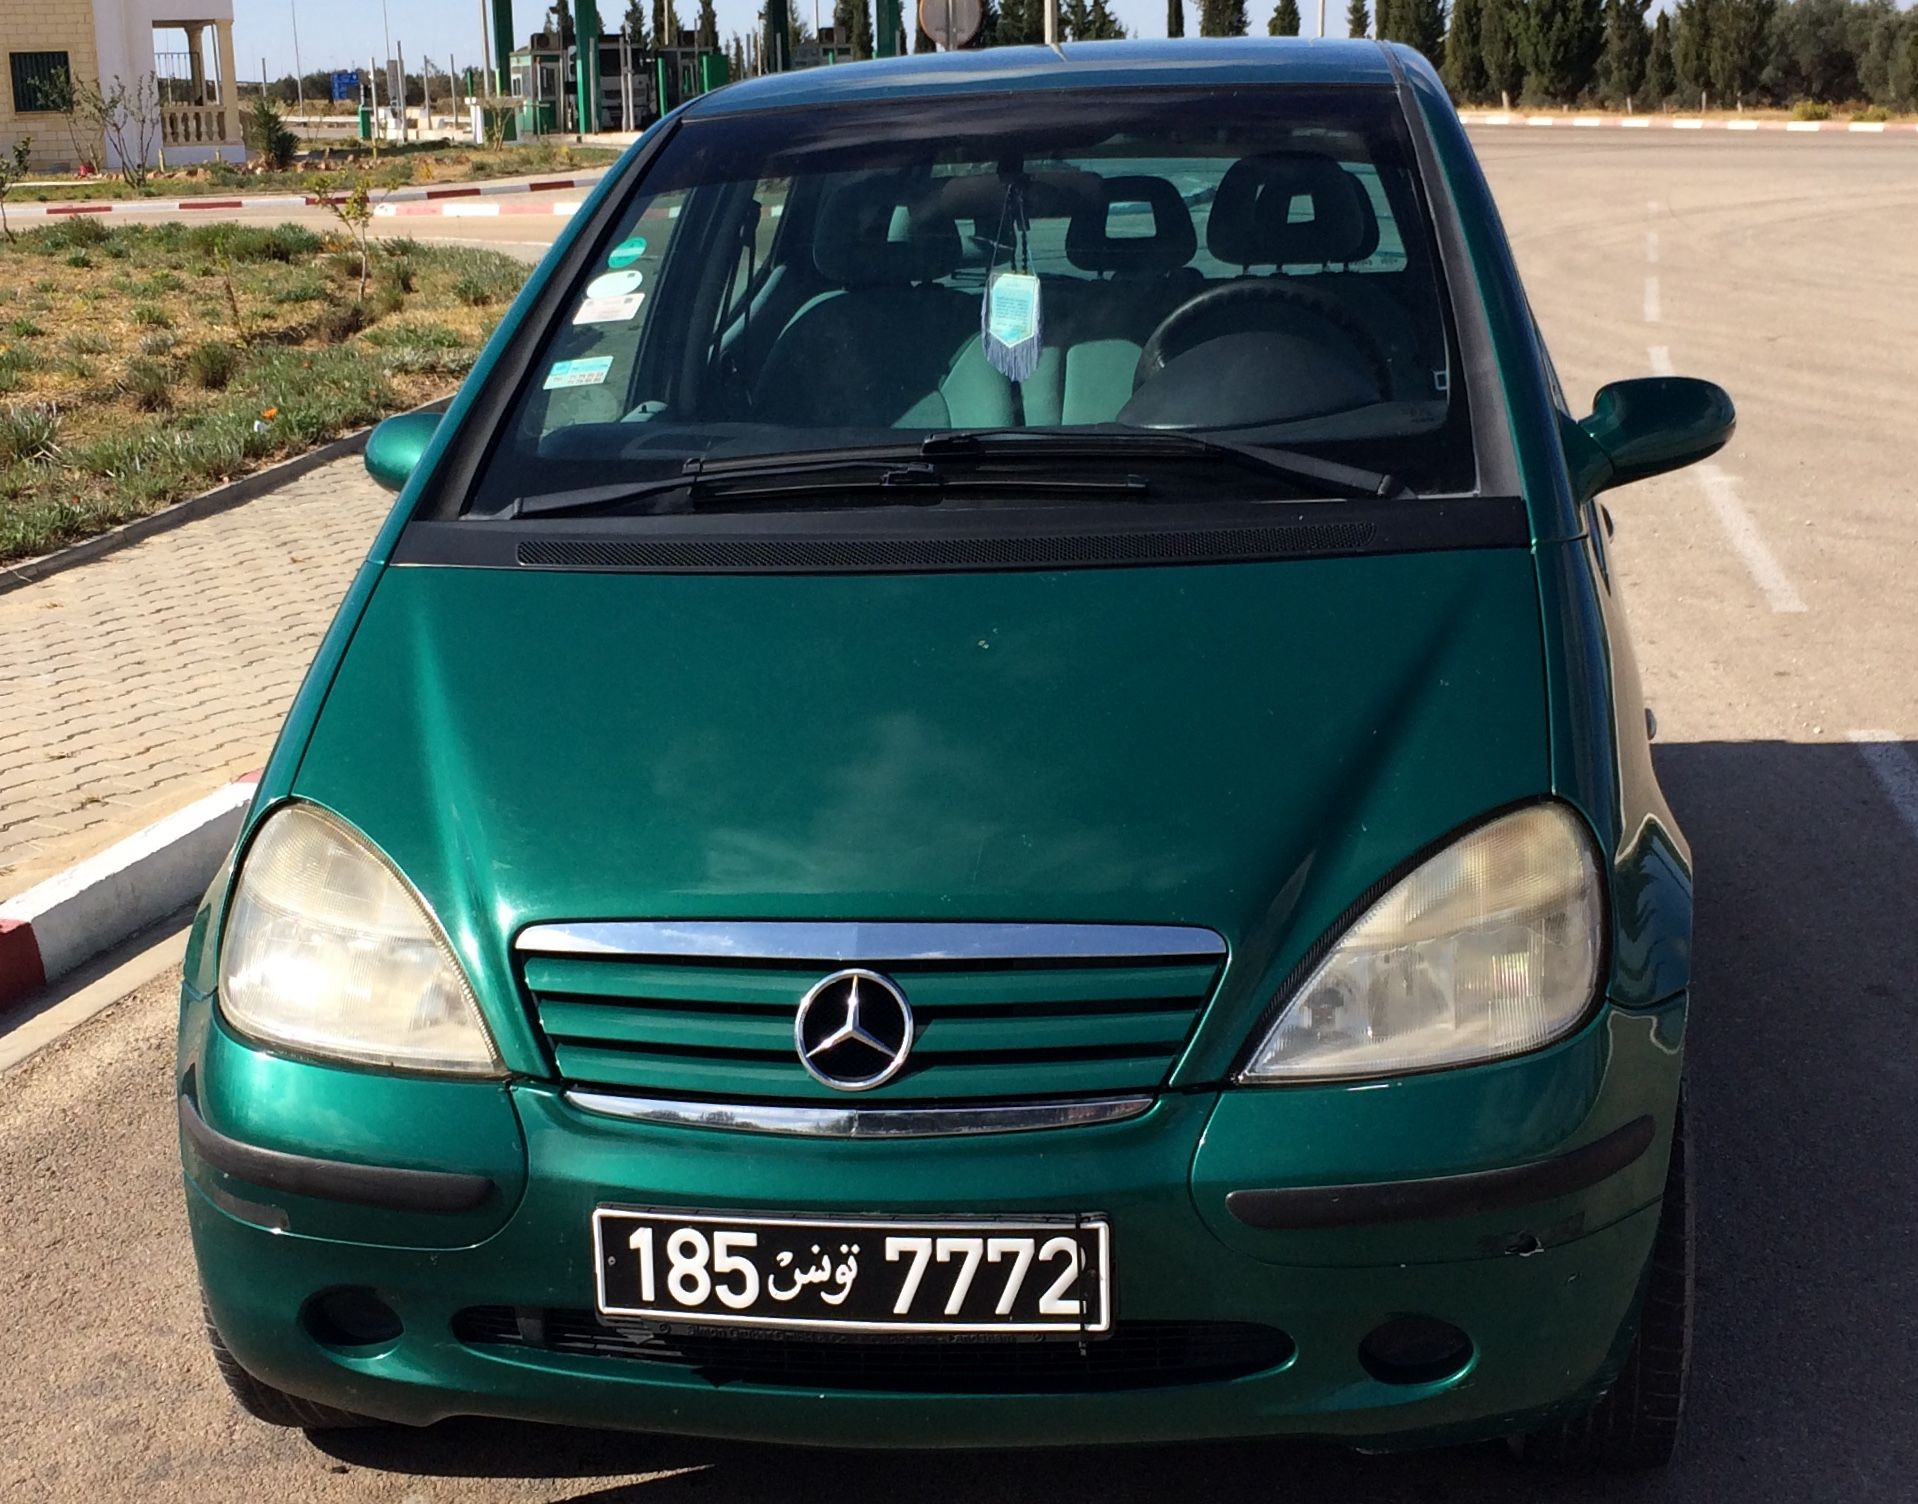LP: (588, 1206, 1109, 1345)
